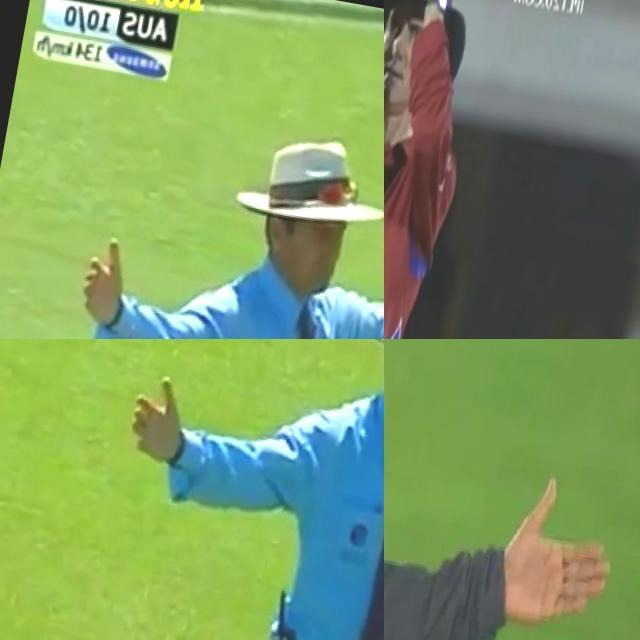No_Ball: (71, 339, 384, 640), (384, 339, 640, 640)
Six: (384, 0, 515, 339)
Wide: (24, 89, 384, 339)
